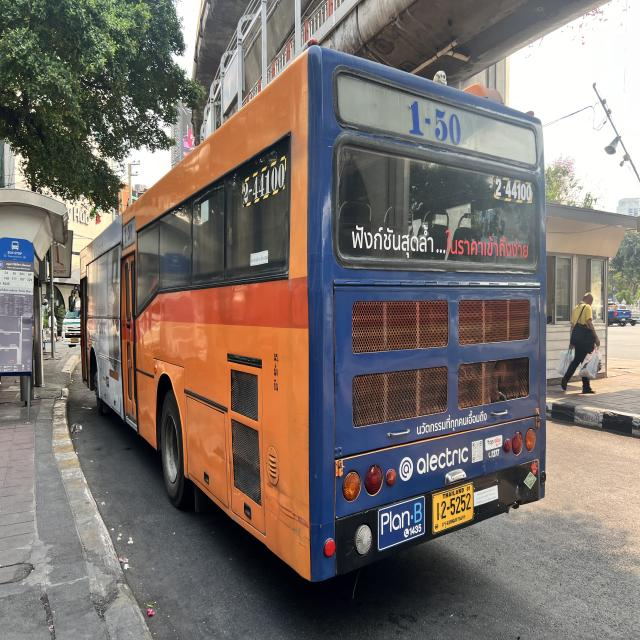BMTA-bus: (79, 47, 548, 587)
Bus-Line-Number: (402, 92, 466, 148)
